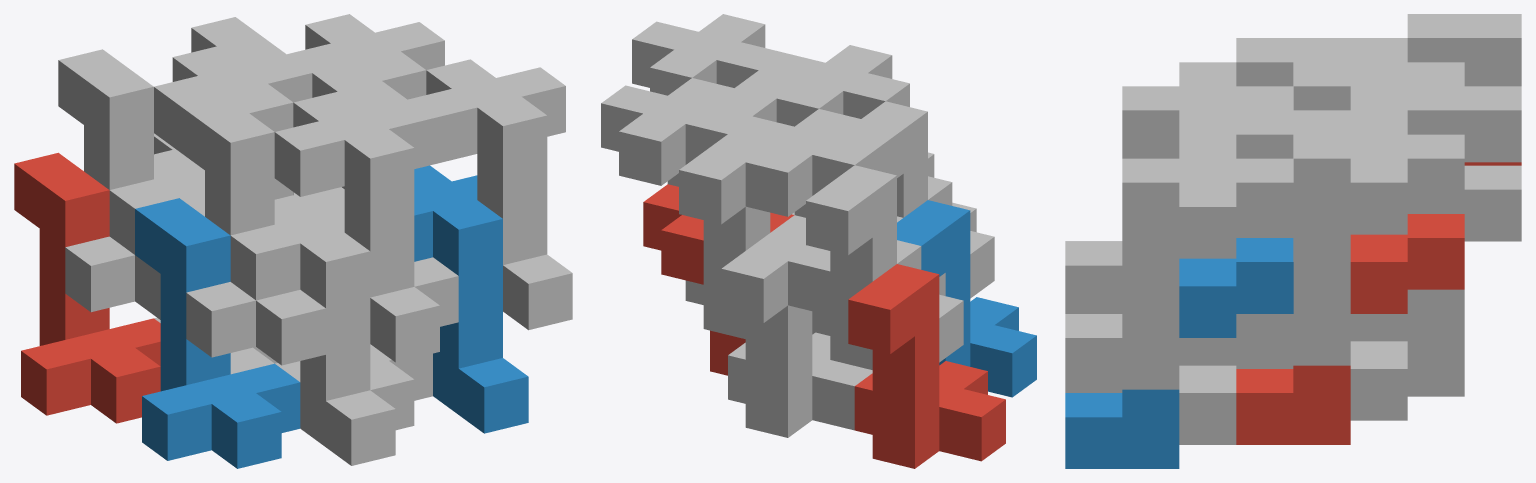
Rendered from tiling.obj.
3 renders of one model, left to right at view 1: azimuth 30°, elevation 25°; view 2: azimuth 150°, elevation 25°; view 3: azimuth 270°, elevation 25°, orthographic. The views are drawn at different scales.
Parts seen in each view (by area): view 1: copy_2_domain_4, copy_1_domain_2, copy_2_domain_8, copy_2_domain_2, copy_1_domain_1, copy_1_domain_4, copy_2_domain_6, copy_1_domain_3, copy_2_domain_3, copy_2_domain_7, copy_2_domain_1, copy_1_domain_8 (+2 smaller); view 2: copy_1_domain_1, copy_1_domain_5, copy_1_domain_3, copy_1_domain_2, copy_2_domain_7, copy_1_domain_7, copy_2_domain_3, copy_2_domain_8, copy_2_domain_4, copy_1_domain_4, copy_2_domain_5, copy_2_domain_1 (+2 smaller); view 3: copy_2_domain_8, copy_2_domain_7, copy_2_domain_5, copy_2_domain_6, copy_2_domain_4, copy_1_domain_5, copy_1_domain_7, copy_2_domain_3, copy_1_domain_3, copy_1_domain_8, copy_1_domain_6, copy_1_domain_4.
Boxes of the visible parts, x1,y1,x2,y2 form: copy_2_domain_4: [274, 91, 439, 362]; copy_1_domain_2: [135, 198, 300, 468]; copy_2_domain_8: [408, 59, 572, 330]; copy_2_domain_2: [230, 195, 395, 465]; copy_1_domain_1: [14, 152, 160, 423]; copy_1_domain_4: [179, 94, 325, 365]; copy_2_domain_6: [414, 165, 528, 433]; copy_1_domain_3: [58, 49, 160, 319]; copy_2_domain_3: [154, 46, 312, 199]; copy_2_domain_7: [287, 14, 444, 99]; copy_2_domain_1: [109, 150, 274, 374]; copy_1_domain_8: [312, 62, 458, 326]; copy_1_domain_1: [848, 264, 1005, 468]; copy_1_domain_5: [721, 233, 872, 437]; copy_1_domain_3: [806, 165, 963, 369]; copy_1_domain_2: [897, 200, 1036, 397]; copy_2_domain_7: [601, 78, 751, 186]; copy_1_domain_7: [679, 134, 770, 338]; copy_2_domain_3: [728, 109, 878, 217]; copy_2_domain_8: [632, 14, 782, 95]; copy_2_domain_4: [759, 45, 909, 126]; copy_1_domain_4: [837, 101, 994, 298]; copy_2_domain_5: [643, 184, 794, 375]; copy_2_domain_1: [770, 215, 921, 315]; copy_2_domain_8: [1065, 134, 1293, 389]; copy_2_domain_7: [1236, 110, 1464, 365]; copy_2_domain_5: [1236, 214, 1464, 444]; copy_2_domain_6: [1065, 238, 1293, 468]; copy_2_domain_4: [1065, 62, 1293, 313]; copy_1_domain_5: [1350, 165, 1521, 420]; copy_1_domain_7: [1350, 86, 1521, 341]; copy_2_domain_3: [1293, 38, 1464, 110]; copy_1_domain_3: [1407, 14, 1521, 86]; copy_1_domain_8: [1179, 110, 1350, 365]; copy_1_domain_6: [1179, 365, 1293, 444]; copy_1_domain_4: [1236, 38, 1350, 86].
Bounding box in the file's own units: 10 × 6 × 8.
